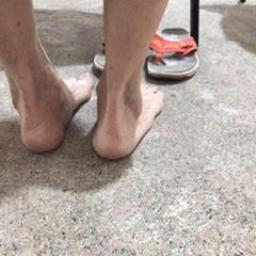Back View -Both Feet-: (1, 64, 172, 169)
